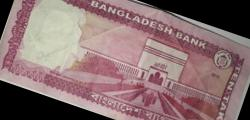10 taka: (14, 1, 240, 120)
